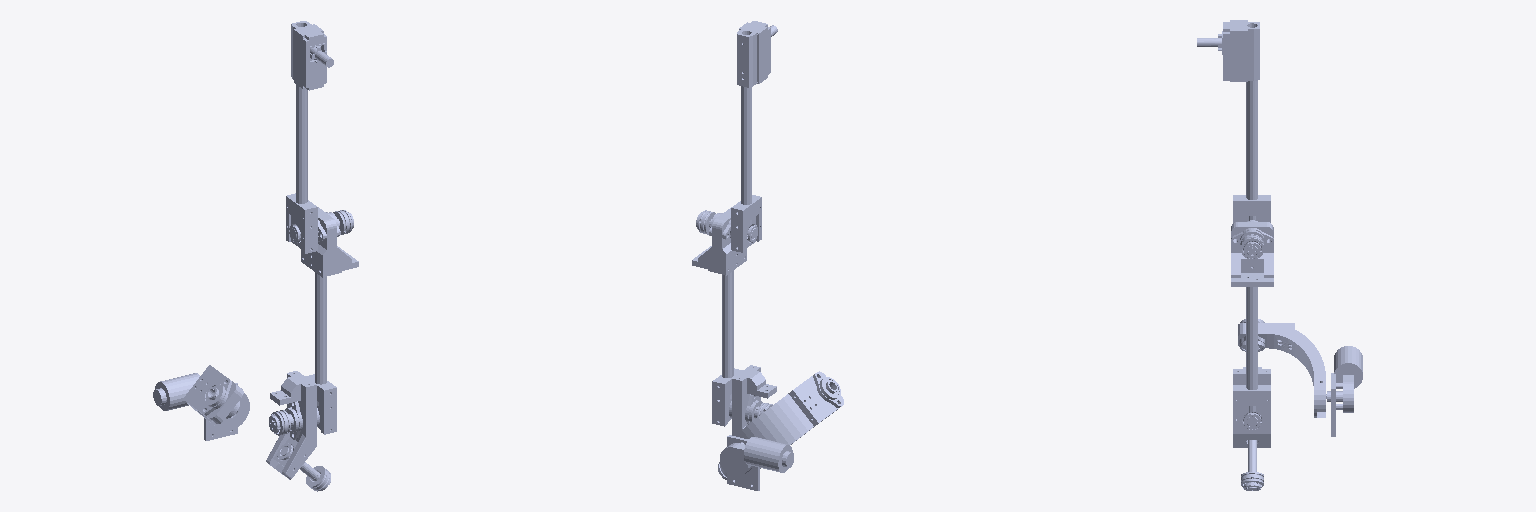
URDF robot description (armatus05):
<robot
  name="armatus05">
  <link
    name="base_link">
    <inertial>
      <origin
        xyz="-0.0441035207367266 0.133129136439465 0.120343299252624"
        rpy="0 0 0" />
      <mass
        value="0.468691906928147" />
      <inertia
        ixx="0.000175050143229992"
        ixy="0.000150316849782907"
        ixz="-0.000108696774317794"
        iyy="0.000258917610154074"
        iyz="8.15383088186357E-05"
        izz="0.00031298015583052" />
    </inertial>
    <visual>
      <origin
        xyz="0 0 0"
        rpy="0 0 0" />
      <geometry>
        <mesh
          filename="package://armatus05/meshes/base_link.STL" />
      </geometry>
      <material
        name="">
        <color
          rgba="0.792156862745098 0.819607843137255 0.933333333333333 1" />
      </material>
    </visual>
    <collision>
      <origin
        xyz="0 0 0"
        rpy="0 0 0" />
      <geometry>
        <mesh
          filename="package://armatus05/meshes/base_link.STL" />
      </geometry>
    </collision>
  </link>
  <link
    name="link1">
    <inertial>
      <origin
        xyz="-0.0895141673370674 2.57477610537959E-07 0.0658764774104169"
        rpy="0 0 0" />
      <mass
        value="0.645673307184909" />
      <inertia
        ixx="0.000154588451666726"
        ixy="-1.47066835651919E-08"
        ixz="0.000246559051749186"
        iyy="0.00054844629959003"
        iyz="9.18076963914551E-09"
        izz="0.000393857849027755" />
    </inertial>
    <visual>
      <origin
        xyz="0 0 0"
        rpy="0 0 0" />
      <geometry>
        <mesh
          filename="package://armatus05/meshes/link1.STL" />
      </geometry>
      <material
        name="">
        <color
          rgba="0.792156862745098 0.819607843137255 0.933333333333333 1" />
      </material>
    </visual>
    <collision>
      <origin
        xyz="0 0 0"
        rpy="0 0 0" />
      <geometry>
        <mesh
          filename="package://armatus05/meshes/link1.STL" />
      </geometry>
    </collision>
  </link>
  <joint
    name="q1"
    type="fixed">
    <origin
      xyz="0.0026164 -0.16132 0.11812"
      rpy="1.5708 0.7854 -6.123E-17" />
    <parent
      link="base_link" />
    <child
      link="link1" />
    <axis
      xyz="0 0 1" />
  </joint>
  <link
    name="link2">
    <inertial>
      <origin
        xyz="3.07676155664183E-07 0.0564202422369583 -0.0656965211506138"
        rpy="0 0 0" />
      <mass
        value="0.499147117919005" />
      <inertia
        ixx="0.00155927643305349"
        ixy="7.57179845178887E-09"
        ixz="1.80871403006569E-08"
        iyy="0.00104901305996136"
        iyz="-0.000649128741932588"
        izz="0.000510263419661247" />
    </inertial>
    <visual>
      <origin
        xyz="0 0 0"
        rpy="0 0 0" />
      <geometry>
        <mesh
          filename="package://armatus05/meshes/link2.STL" />
      </geometry>
      <material
        name="">
        <color
          rgba="0.792156862745098 0.819607843137255 0.933333333333333 1" />
      </material>
    </visual>
    <collision>
      <origin
        xyz="0 0 0"
        rpy="0 0 0" />
      <geometry>
        <mesh
          filename="package://armatus05/meshes/link2.STL" />
      </geometry>
    </collision>
  </link>
  <joint
    name="q2"
    type="continuous">
    <origin
      xyz="0 0 0.155"
      rpy="0 -1.5708 0" />
    <parent
      link="link1" />
    <child
      link="link2" />
    <axis
      xyz="0 0 1" />
  </joint>
  <link
    name="link3">
    <inertial>
      <origin
        xyz="-0.000961128611003725 -0.232406021110969 -0.111290357967639"
        rpy="0 0 0" />
      <mass
        value="0.674622622643783" />
      <inertia
        ixx="0.0208988036242029"
        ixy="-8.32679702380219E-05"
        ixz="-6.52695746299325E-06"
        iyy="0.000519298638674693"
        iyz="-0.00157969424138807"
        izz="0.0203801885198768" />
    </inertial>
    <visual>
      <origin
        xyz="0 0 0"
        rpy="0 0 0" />
      <geometry>
        <mesh
          filename="package://armatus05/meshes/link3.STL" />
      </geometry>
      <material
        name="">
        <color
          rgba="0.792156862745098 0.819607843137255 0.933333333333333 1" />
      </material>
    </visual>
    <collision>
      <origin
        xyz="0 0 0"
        rpy="0 0 0" />
      <geometry>
        <mesh
          filename="package://armatus05/meshes/link3.STL" />
      </geometry>
    </collision>
  </link>
  <joint
    name="q3"
    type="continuous">
    <origin
      xyz="0 0.026766 -0.0053396"
      rpy="-0.78539 0.0029116 -3.1387" />
    <parent
      link="link2" />
    <child
      link="link3" />
    <axis
      xyz="0 0 1" />
  </joint>
  <link
    name="link4">
    <inertial>
      <origin
        xyz="0.00870075325055064 -0.188619113469937 0.0364614707390779"
        rpy="0 0 0" />
      <mass
        value="0.479696419916218" />
      <inertia
        ixx="0.0177109735880122"
        ixy="0.000914809682286592"
        ixz="4.78363852362251E-05"
        iyy="0.000513995152654501"
        iyz="-0.00103667080993815"
        izz="0.0174531008911726" />
    </inertial>
    <visual>
      <origin
        xyz="0 0 0"
        rpy="0 0 0" />
      <geometry>
        <mesh
          filename="package://armatus05/meshes/link4.STL" />
      </geometry>
      <material
        name="">
        <color
          rgba="0.792156862745098 0.819607843137255 0.933333333333333 1" />
      </material>
    </visual>
    <collision>
      <origin
        xyz="0 0 0"
        rpy="0 0 0" />
      <geometry>
        <mesh
          filename="package://armatus05/meshes/link4.STL" />
      </geometry>
    </collision>
  </link>
  <joint
    name="q4"
    type="continuous">
    <origin
      xyz="-0.0017294 -0.42 -0.0445"
      rpy="3.1416 2.1291E-27 -3.1416" />
    <parent
      link="link3" />
    <child
      link="link4" />
    <axis
      xyz="0 0 -1" />
  </joint>
  <link
    name="linkeff">
    <inertial>
      <origin
        xyz="2.44249065417534E-15 0.0530372351438003 -5.55111512312578E-17"
        rpy="0 0 0" />
      <mass
        value="0.0294646479378636" />
      <inertia
        ixx="0"
        ixy="0"
        ixz="0"
        iyy="0"
        iyz="0"
        izz="0" />
    </inertial>
    <visual>
      <origin
        xyz="0 0 0"
        rpy="0 0 0" />
      <geometry>
        <mesh
          filename="package://armatus05/meshes/linkeff.STL" />
      </geometry>
      <material
        name="">
        <color
          rgba="0.792156862745098 0.819607843137255 0.933333333333333 1" />
      </material>
    </visual>
    <collision>
      <origin
        xyz="0 0 0"
        rpy="0 0 0" />
      <geometry>
        <mesh
          filename="package://armatus05/meshes/linkeff.STL" />
      </geometry>
    </collision>
  </link>
  <joint
    name="eff"
    type="fixed">
    <origin
      xyz="0.018773 -0.43043 0.025"
      rpy="1.5987E-14 0.31793 -1.5667" />
    <parent
      link="link4" />
    <child
      link="linkeff" />
    <axis
      xyz="0 1 0" />
  </joint>
</robot>

--- Render facts (derived) ---
3 views of the same robot in one strip: view 1: azimuth 30°, elevation 25°; view 2: azimuth 150°, elevation 25°; view 3: azimuth 270°, elevation 25° (orthographic).
Model armatus05 with 6 links and 5 joints (3 continuous, 2 fixed), rooted at base_link, posed all joints at 0.
Visible links, largest first — view 1: link4, link3, link2, link1, base_link; view 2: link4, link3, link1, base_link, link2; view 3: link3, link4, link1, base_link, link2.
Link boxes in pixels (x1,y1,x2,y2): link4: (286,21,353,253); link3: (269,207,358,435); link2: (266,371,330,491); link1: (183,365,249,430); base_link: (153,373,237,440); link4: (696,21,770,252); link3: (692,208,772,426); link1: (735,371,843,468); base_link: (720,435,793,490); link2: (718,365,776,479); link3: (1231,220,1273,433); link4: (1218,20,1270,259); link1: (1238,319,1325,417); base_link: (1326,346,1362,436); link2: (1233,367,1270,490).
Size in the robot's own frame: 0.3514 by 0.3502 by 1.06 metres.
6 mesh visuals loaded from 6 distinct referenced files (6 binary STL).
